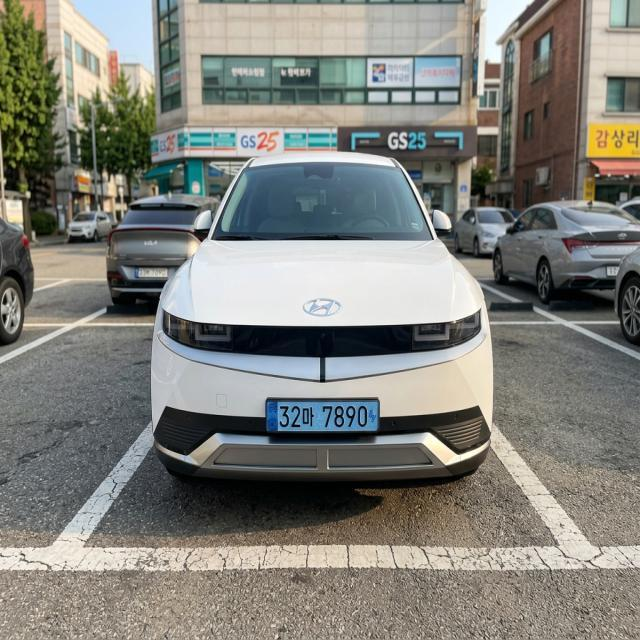car: (252, 388, 401, 449)
carev: (265, 395, 279, 438), (367, 394, 381, 437)
